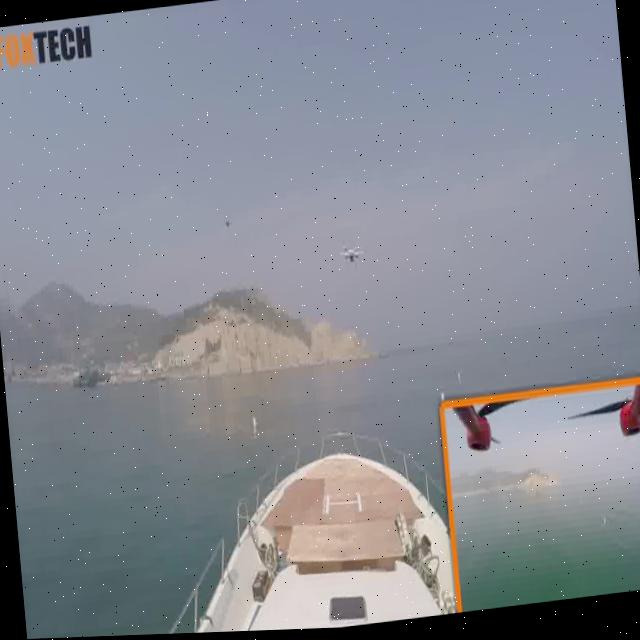drone: (333, 231, 370, 282)
